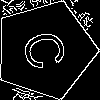C: (20, 24, 77, 73)
